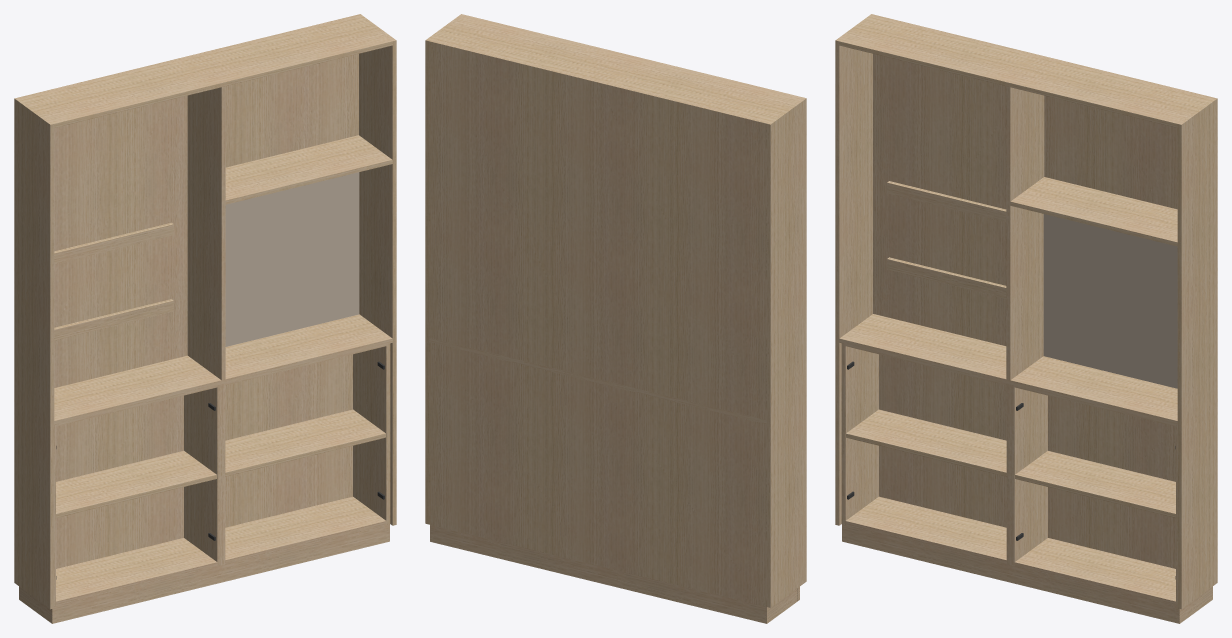
File: korpus.glb
3 renders of one model, left to right at view 1: azimuth 30°, elevation 25°; view 2: azimuth 150°, elevation 25°; view 3: azimuth 330°, elevation 25°, orthographic.
Parts seen in each view (by area): view 1: 2025-284 Avishylle; view 2: 2025-284 Avishylle; view 3: 2025-284 Avishylle.
Boxes of the visible parts, x1=… form: 2025-284 Avishylle: x1=14, y1=14, x2=396, y2=623; 2025-284 Avishylle: x1=425, y1=14, x2=806, y2=623; 2025-284 Avishylle: x1=835, y1=14, x2=1217, y2=623.
Bounding box in the file's own units: 1660 × 2300 × 300.
4 materials, 1 textured.
